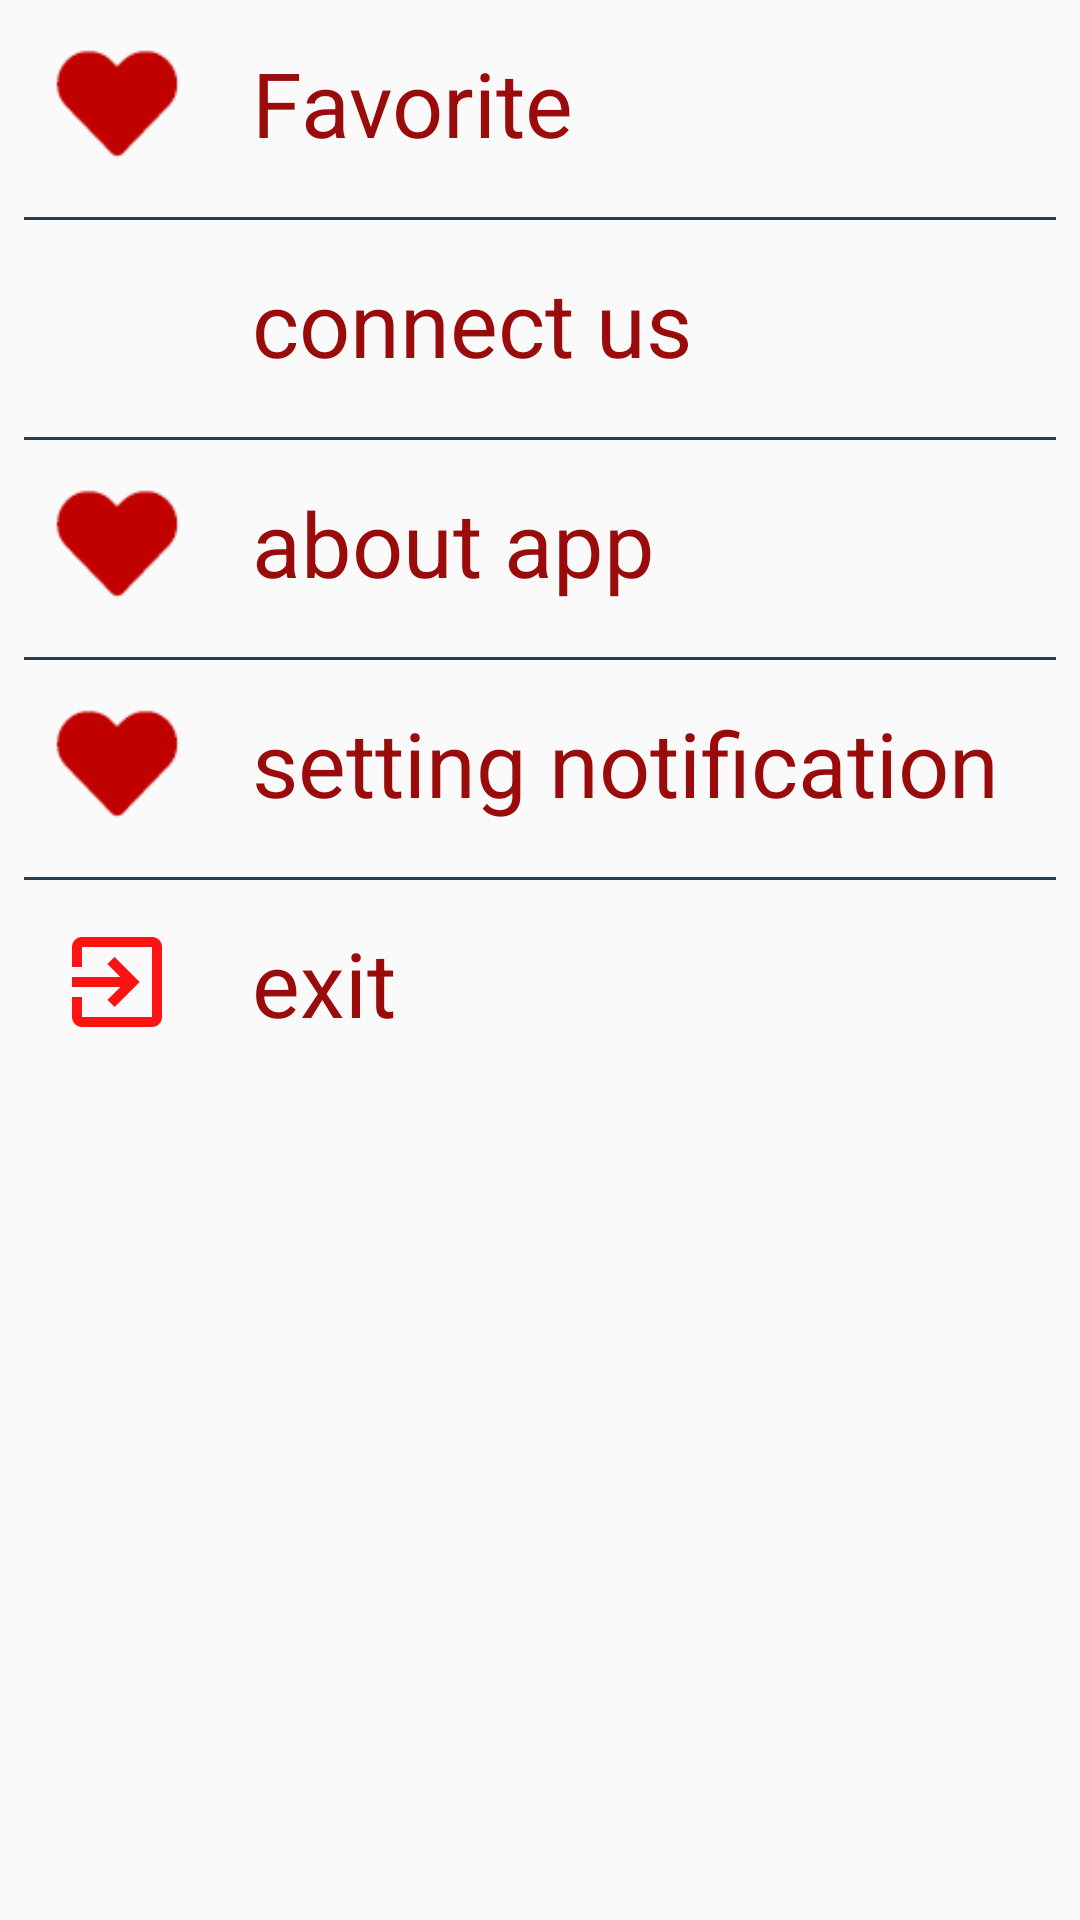

Named icons in this screenshot (1080w x 1920h) and their centers, point (x, y):
afterlike: point (117, 103), point (117, 543), point (117, 763)
